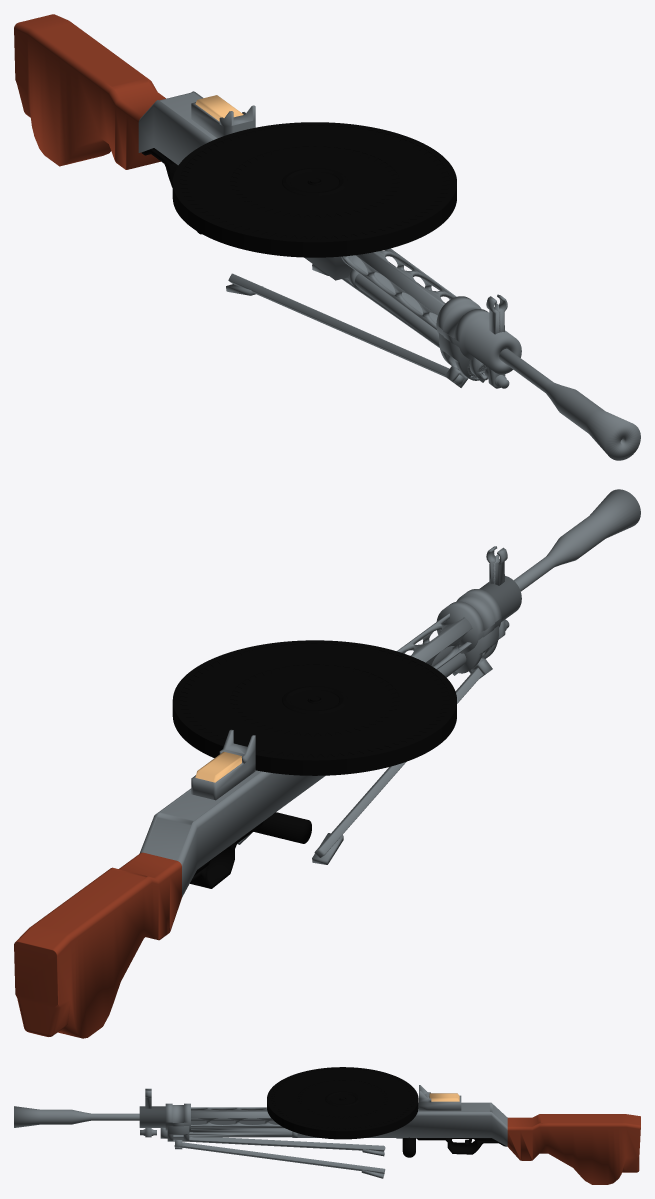
Rendered from dp27fbxmodel.fbx.
3 views of the same model, one above another, from view 1: azimuth 30°, elevation 25°; view 2: azimuth 150°, elevation 25°; view 3: azimuth 270°, elevation 25° (orthographic). The views are drawn at different scales.
Visible parts, largest first — view 1: Gun, Ammo; view 2: Gun, Ammo; view 3: Gun, Ammo.
Boxes of the visible parts, left/top/right/bottom form: Gun: left=14, top=14, right=640, bottom=460; Ammo: left=172, top=122, right=456, bottom=257; Gun: left=14, top=489, right=640, bottom=1038; Ammo: left=172, top=640, right=456, bottom=775; Gun: left=14, top=1085, right=640, bottom=1184; Ammo: left=267, top=1067, right=418, bottom=1139.
Bounding box in the file's own units: 30.7 × 20.29 × 127.
